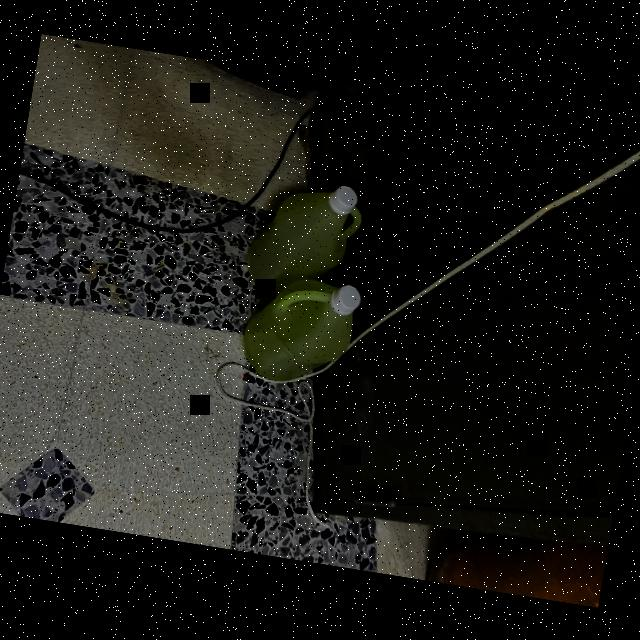chemical_plastic_gallon: (235, 154, 372, 312), (234, 270, 368, 394)
